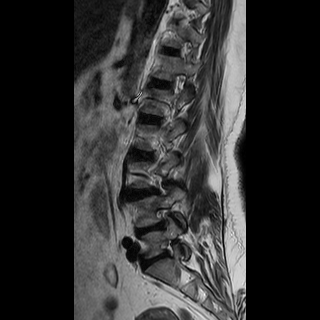LFS1: (157, 234, 180, 265)
